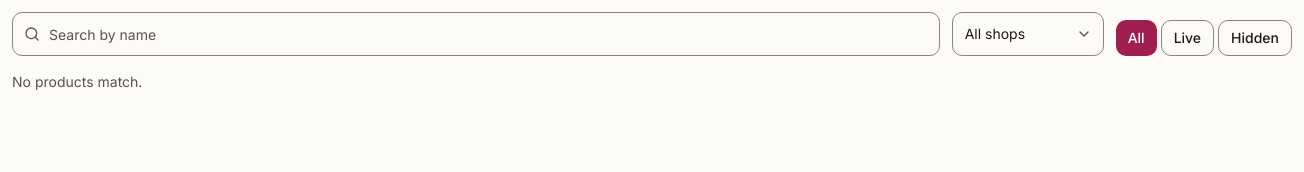
Test: ProductList › says when nothing is hidden
The image size is (1304, 172).
Click the button "Hidden".
click(1255, 38)  # box 1218,20 -> 1292,56
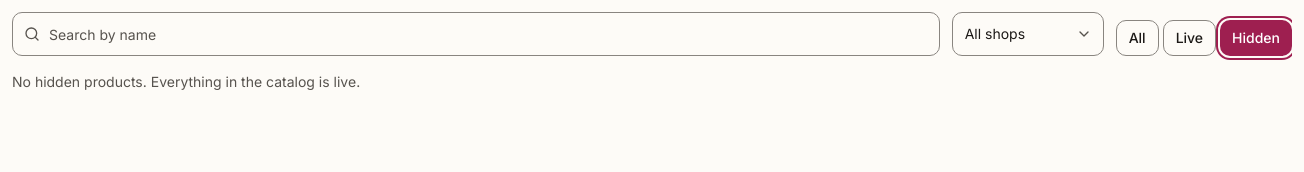
Now the text "No hidden products. Everything in the catalog is live." is shown, box 12,73 -> 360,90
